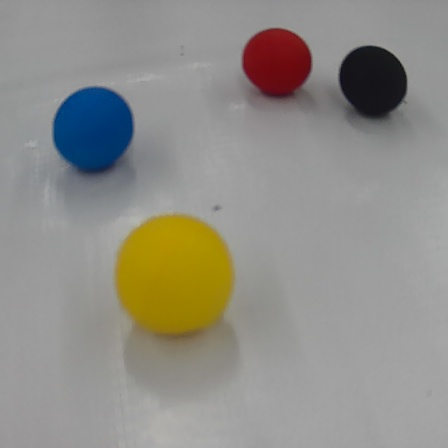black: (342, 44, 410, 119)
blue: (52, 86, 135, 170)
red: (241, 28, 313, 96)
yellow: (112, 212, 236, 338)
